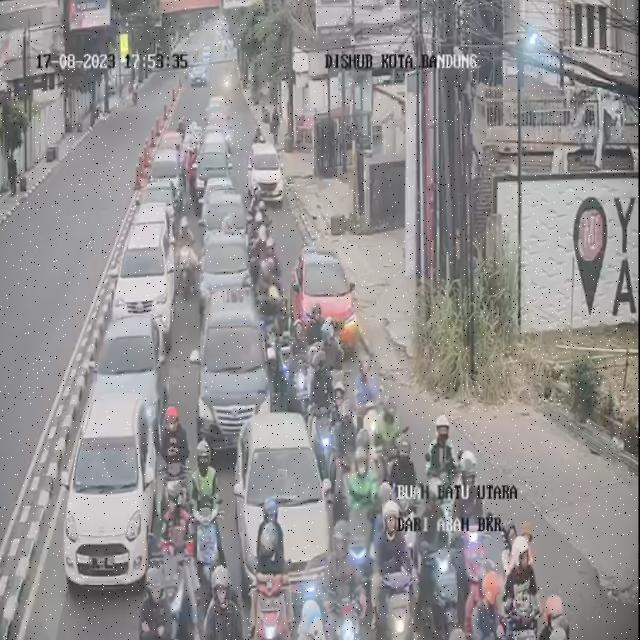cars: (234, 411, 337, 640), (65, 388, 159, 593), (194, 286, 270, 452), (97, 312, 169, 445), (116, 214, 179, 346), (298, 239, 359, 348), (196, 225, 246, 314), (199, 190, 246, 256), (249, 139, 285, 204), (196, 140, 232, 194), (151, 148, 186, 198), (140, 179, 182, 220), (202, 123, 230, 152), (206, 94, 230, 123)
motorcycle: (337, 434, 382, 595), (414, 468, 457, 636), (153, 478, 197, 639), (183, 439, 221, 591), (249, 498, 289, 640), (492, 527, 541, 640), (375, 503, 416, 638), (154, 399, 193, 513), (429, 412, 460, 531), (448, 448, 483, 552), (196, 565, 245, 638), (291, 304, 325, 409), (325, 514, 352, 640), (462, 554, 500, 640), (389, 441, 420, 537), (264, 290, 292, 382), (251, 252, 283, 332), (350, 333, 380, 415), (528, 593, 579, 640), (378, 399, 402, 479), (174, 214, 198, 284), (290, 609, 334, 640), (253, 202, 272, 254), (248, 183, 270, 219)
